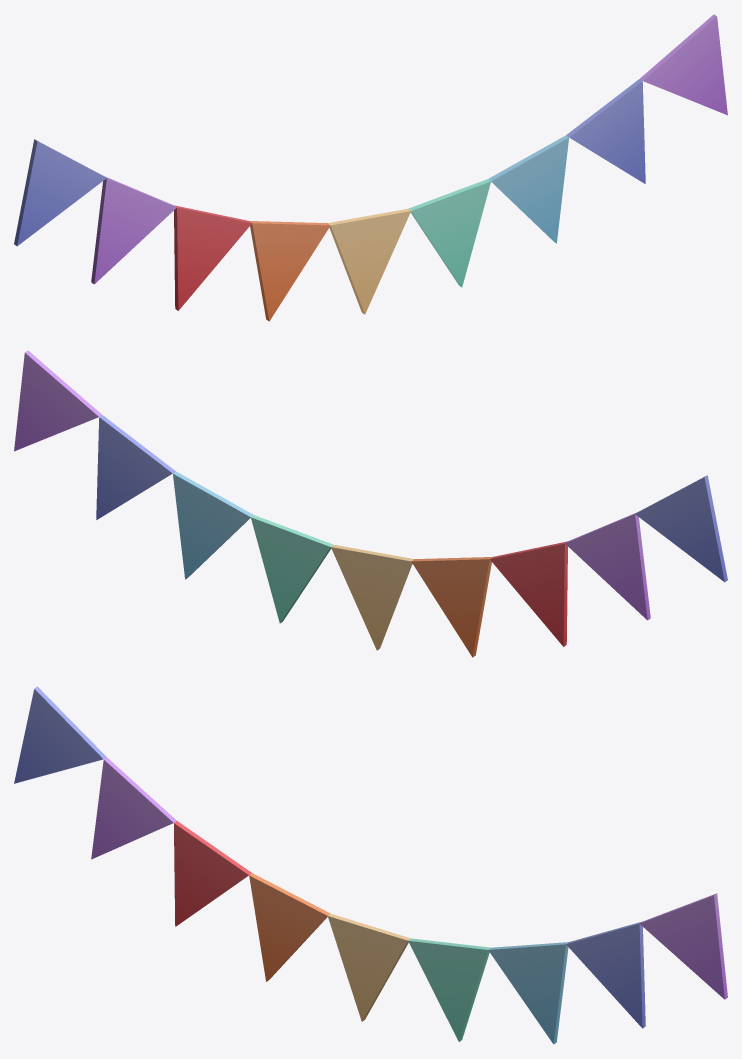
Rendered from Flags.fbx.
3 renders of one model, top to bottom at view 1: azimuth 30°, elevation 25°; view 2: azimuth 150°, elevation 25°; view 3: azimuth 330°, elevation 25°, orthographic.
Parts seen in each view (by area): view 1: Flags; view 2: Flags; view 3: Flags.
Boxes of the visible parts, x1,y1,x2,y2 form: Flags: (14, 14, 727, 321); Flags: (14, 350, 727, 657); Flags: (14, 686, 727, 1044).
Bounding box in the file's own units: 220 × 75.04 × 1.71.
